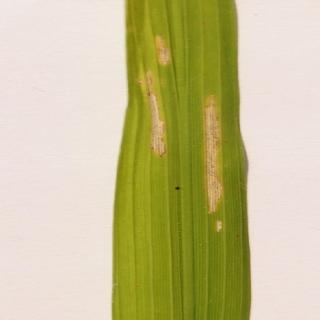Hawar-Daun: (129, 32, 187, 175), (195, 82, 234, 240)
